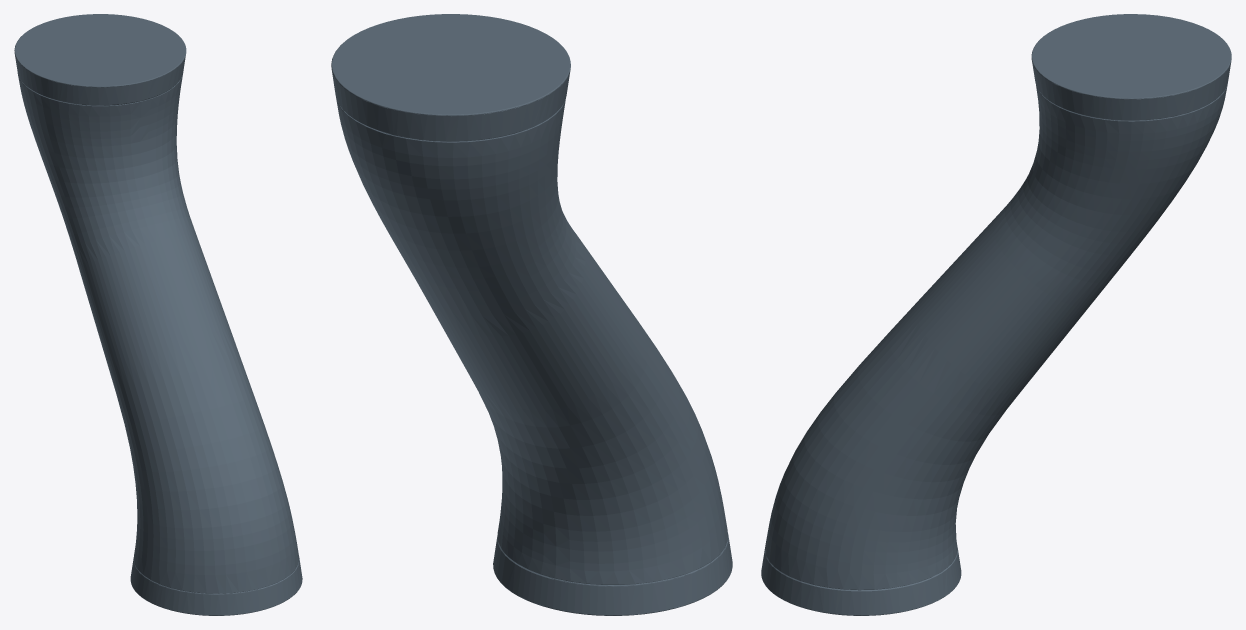
The picture shows the model from 3 angles, left to right: view 1: azimuth 30°, elevation 25°; view 2: azimuth 150°, elevation 25°; view 3: azimuth 270°, elevation 25°; orthographic projection. The views are drawn at different scales.
Parts seen in each view (by area): view 1: A0509_4_0; view 2: A0509_4_0; view 3: A0509_4_0.
Part boxes in pixels (bbox=[...]): A0509_4_0: bbox=[14, 14, 302, 615]; A0509_4_0: bbox=[331, 14, 732, 615]; A0509_4_0: bbox=[761, 14, 1231, 615].
Size of the model in its own units: 90.39 by 212 by 258.
